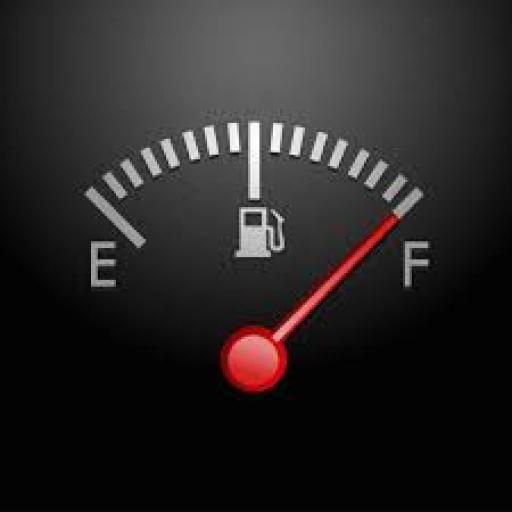empty: (78, 229, 125, 287)
fuel_icon: (234, 202, 286, 257)
full: (399, 237, 432, 287)
guage_area: (68, 109, 442, 402)
needle_center: (216, 318, 294, 391)
needle_tip: (366, 210, 399, 246)
